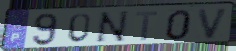0: (165, 8, 194, 41), (65, 13, 92, 44)
9: (31, 12, 60, 47)
N: (93, 10, 130, 45)
T: (134, 10, 160, 42)
V: (196, 7, 231, 41)
